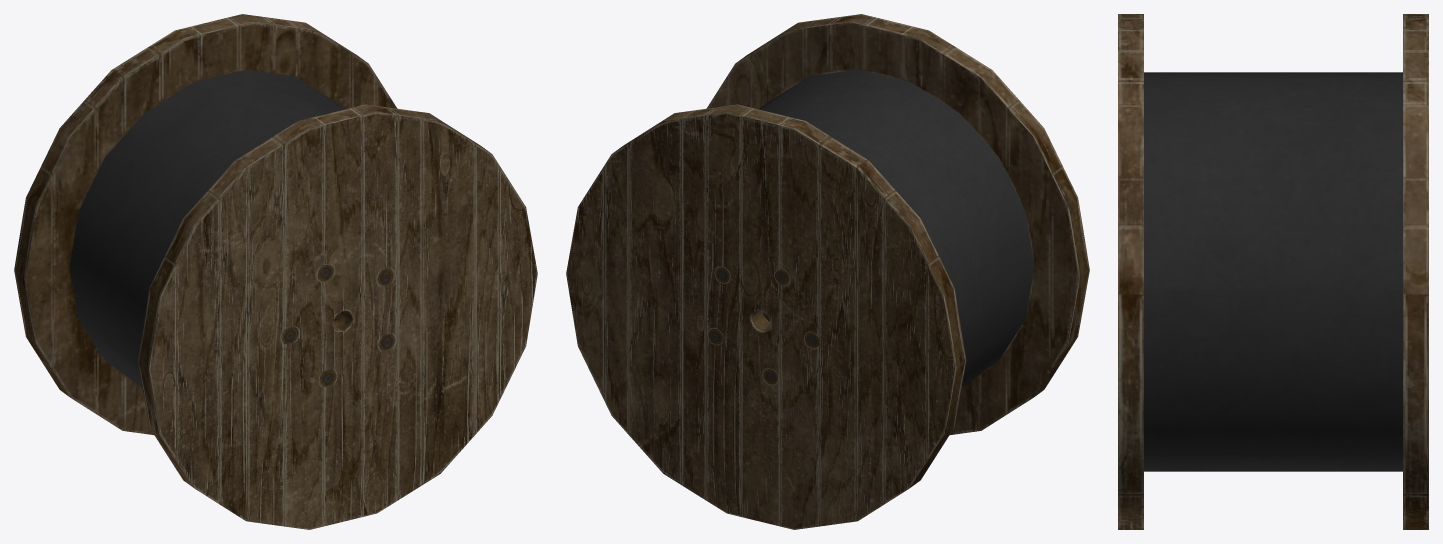
3 renders of one model, left to right at view 1: azimuth 30°, elevation 25°; view 2: azimuth 150°, elevation 25°; view 3: azimuth 270°, elevation 25°, orthographic. The views are drawn at different scales.
Visible parts, largest first — view 1: Spool_Cable_Low.001; view 2: Spool_Cable_Low.001; view 3: Spool_Cable_Low.001.
Part boxes in pixels (x1,y1,x2,y2): Spool_Cable_Low.001: [14, 14, 537, 529]; Spool_Cable_Low.001: [566, 14, 1089, 529]; Spool_Cable_Low.001: [1118, 14, 1428, 529].
Bounding box in the file's own units: 1 × 0.9848 × 0.6.
Materials: 1 (1 with a texture image).
